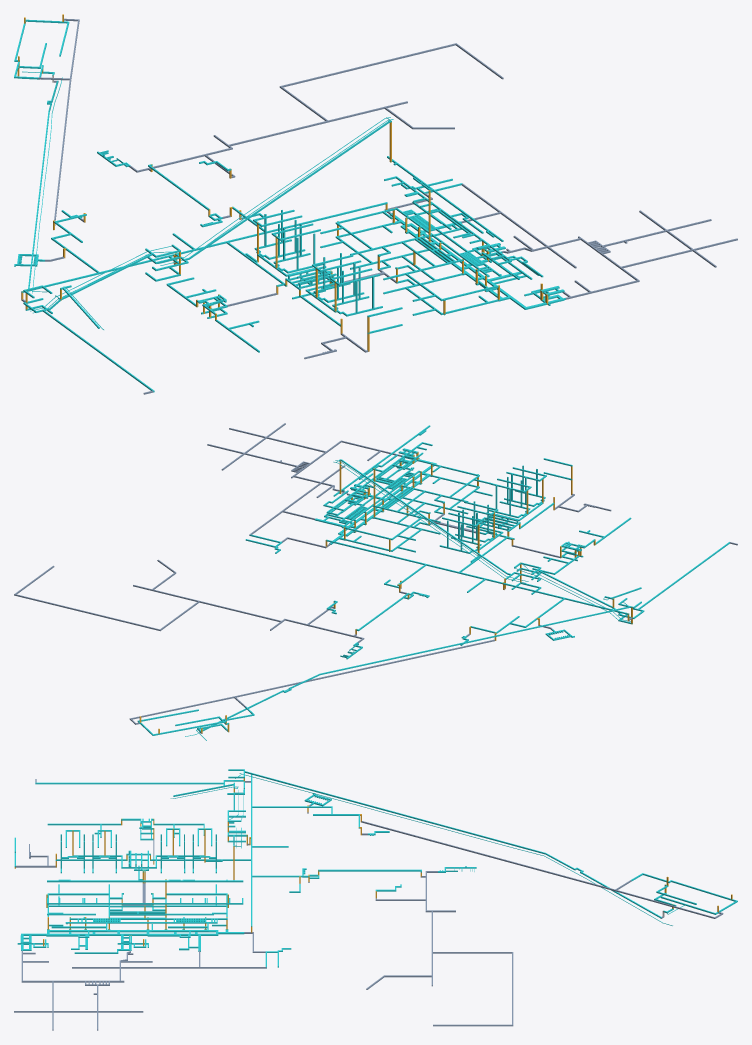
File: cable.glb
3 renders of one model, top to bottom at view 1: azimuth 30°, elevation 25°; view 2: azimuth 150°, elevation 25°; view 3: azimuth 270°, elevation 25°, orthographic. The views are drawn at different scales.
Parts seen in each view (by area): view 1: cable_indoor_shumd2_0_cableBridge_001; view 2: cable_indoor_shumd3_0_cableBridge_001, cable_outdoor_none_0_cableChute_030; view 3: cable_indoor_shumd3_0_cableBridge_001, cable_outdoor_none_0_cableChute_030.
Part boxes in pixels (x1=…): cable_indoor_shumd2_0_cableBridge_001: x1=189, y1=121, x2=388, y2=259; cable_indoor_shumd3_0_cableBridge_001: x1=320, y1=606, x2=630, y2=675; cable_outdoor_none_0_cableChute_030: x1=234, y1=639, x2=495, y2=697; cable_indoor_shumd3_0_cableBridge_001: x1=245, y1=771, x2=545, y2=854; cable_outdoor_none_0_cableChute_030: x1=361, y1=821, x2=614, y2=890.
Size of the model in its own units: 449 by 91.55 by 548.
